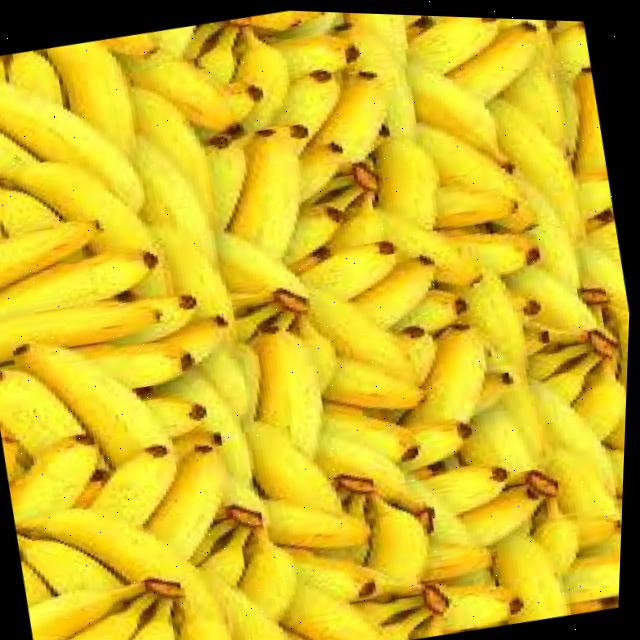Banana: (35, 508, 233, 640), (20, 343, 174, 465), (137, 140, 233, 321), (0, 85, 140, 208), (0, 161, 153, 250), (535, 379, 618, 526), (491, 98, 580, 232), (302, 69, 387, 197), (0, 252, 158, 319), (136, 137, 218, 266), (137, 87, 215, 222), (309, 287, 416, 380), (82, 320, 230, 387), (45, 40, 131, 154), (0, 301, 162, 360), (329, 402, 474, 467), (233, 123, 301, 255), (151, 445, 231, 557), (250, 420, 346, 508), (411, 62, 501, 155), (258, 328, 322, 454), (407, 324, 489, 421), (0, 369, 88, 457), (15, 436, 102, 522), (132, 59, 235, 130), (420, 120, 517, 195), (463, 269, 524, 379), (388, 209, 482, 280), (0, 222, 98, 290), (499, 529, 572, 620), (37, 581, 149, 640), (449, 23, 535, 97), (321, 431, 417, 497), (22, 535, 126, 594), (288, 582, 393, 640), (96, 450, 178, 524), (508, 261, 600, 324), (220, 231, 311, 294), (377, 135, 440, 225), (372, 492, 430, 589), (234, 25, 290, 125), (465, 401, 539, 476), (302, 238, 396, 296), (355, 258, 436, 325), (244, 527, 302, 618), (327, 355, 426, 406), (410, 13, 496, 70), (274, 497, 373, 546), (465, 482, 546, 541), (426, 462, 512, 510), (452, 230, 542, 272), (228, 582, 292, 640), (78, 593, 156, 640), (438, 183, 516, 225), (149, 395, 203, 436)
